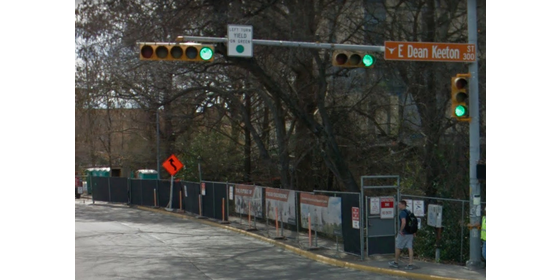left turn yield on green sign: (227, 22, 256, 59)
